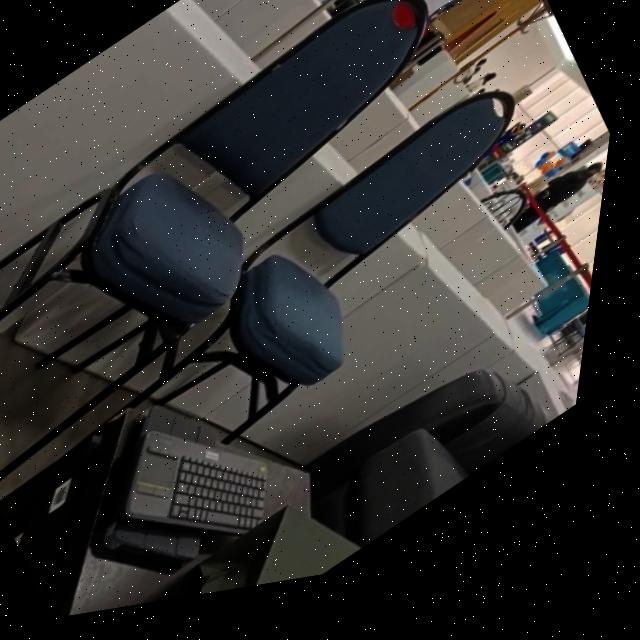sandalye: (0, 6, 428, 490), (128, 109, 519, 454)
